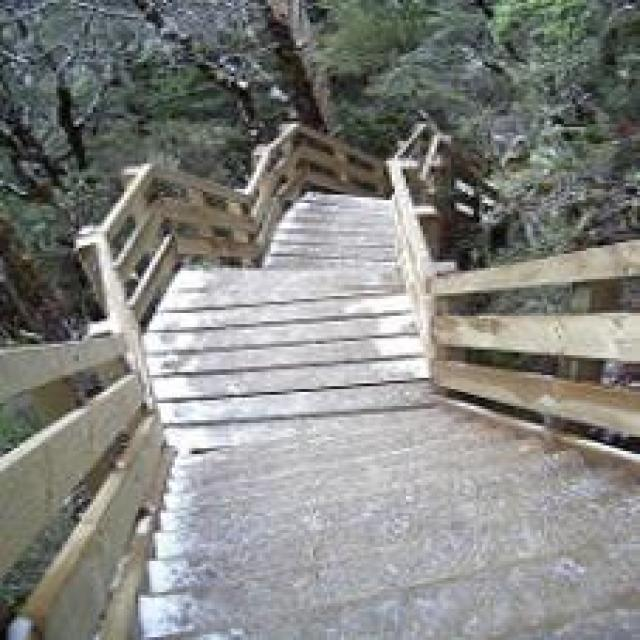downstair: (179, 495, 607, 639)
